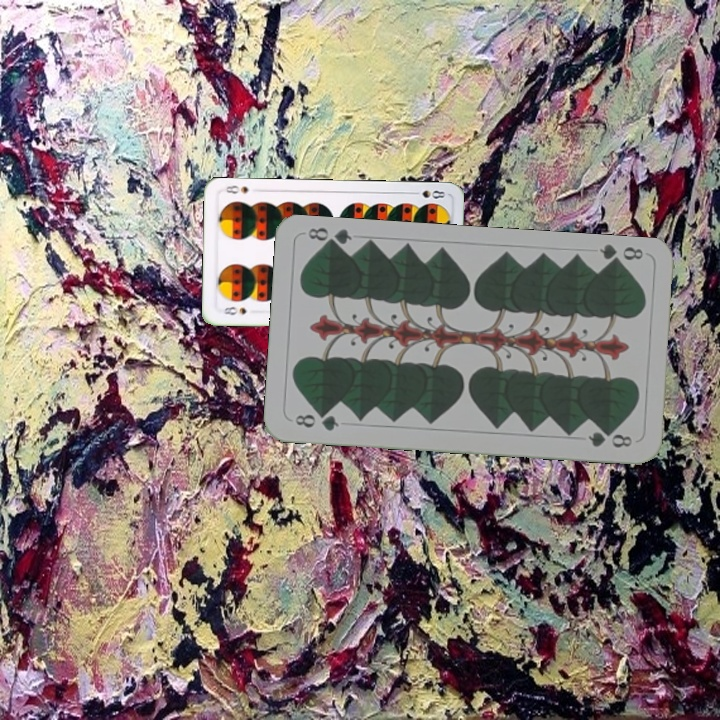G8: (595, 241, 646, 270), (291, 409, 342, 434)
S8: (407, 186, 448, 201), (220, 302, 249, 318)
